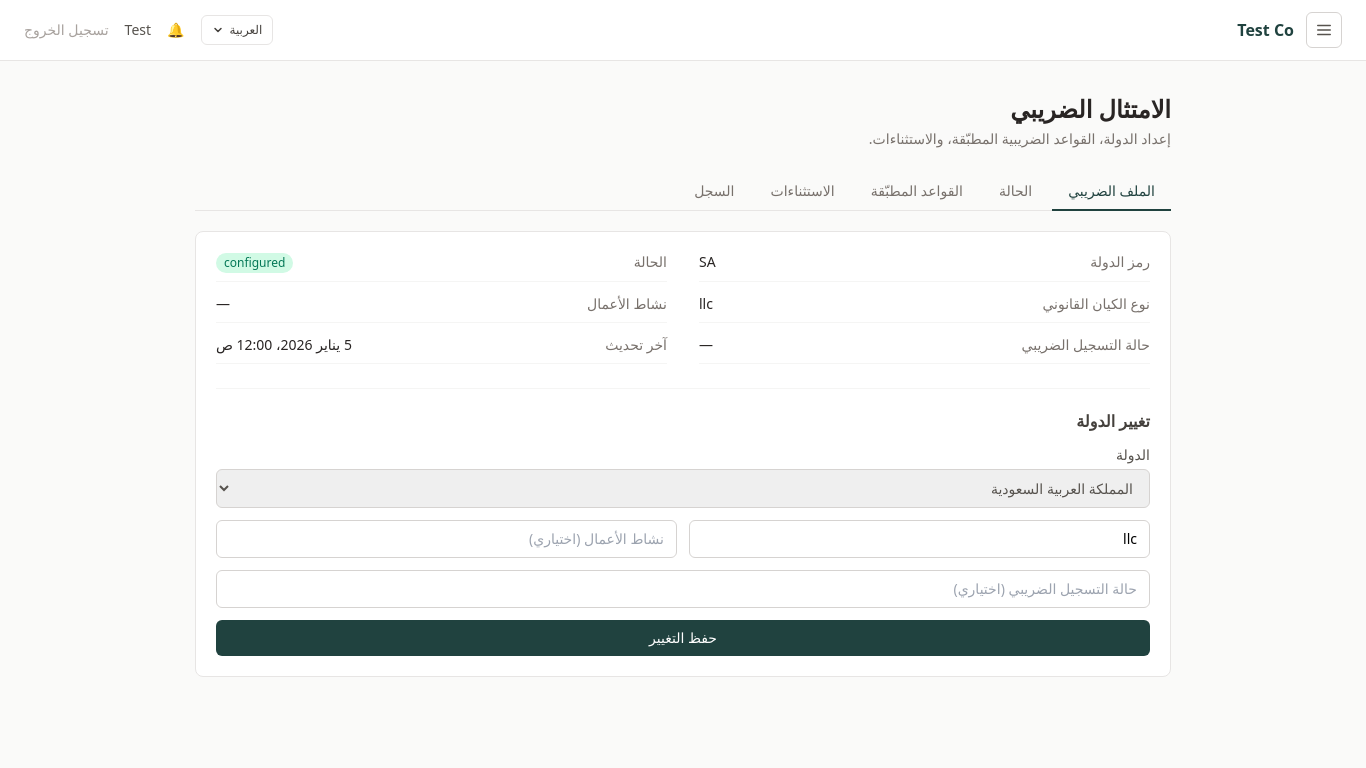
<Compliance/> — Overrides › 9. existing overrides render from the API
Expected: the text "رمز الدولة" is shown, x1=1090 y1=252 x2=1150 y2=272
Click the tab "الاستثناءات".
click(803, 192)  # box x1=754 y1=173 x2=851 y2=211
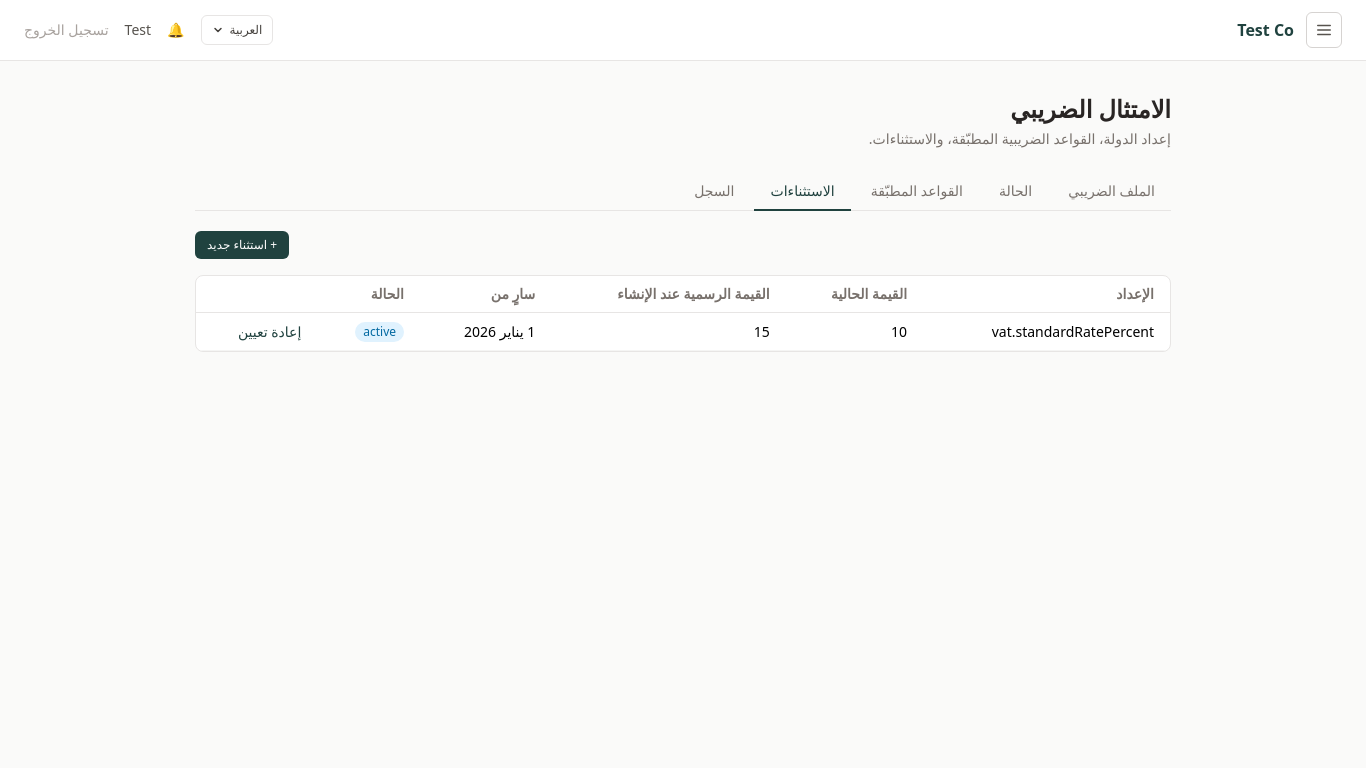
Now the text "vat.standardRatePercent" is shown, box x1=923 y1=312 x2=1170 y2=350
Now the text "10" is shown, box x1=786 y1=312 x2=923 y2=350
Now the text "15" is shown, box x1=551 y1=312 x2=786 y2=350
